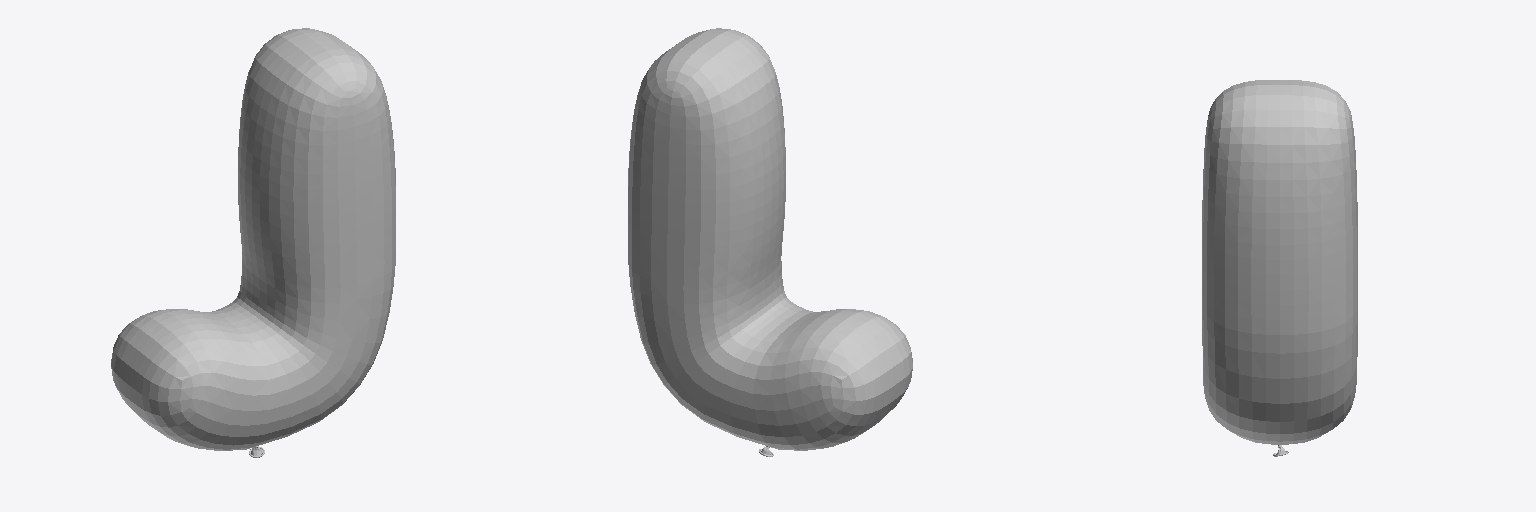
Rendered from balloonj.obj.
3 views of the same model, side by side, from view 1: azimuth 30°, elevation 25°; view 2: azimuth 150°, elevation 25°; view 3: azimuth 270°, elevation 25° (orthographic).
Visible parts, largest first — view 1: Balloon_Alphabet_Subdivision_J; view 2: Balloon_Alphabet_Subdivision_J; view 3: Balloon_Alphabet_Subdivision_J.
Boxes of the visible parts, box(x1,y1,x2,y2) form: Balloon_Alphabet_Subdivision_J: box(111, 28, 395, 457); Balloon_Alphabet_Subdivision_J: box(628, 28, 912, 456); Balloon_Alphabet_Subdivision_J: box(1202, 80, 1357, 456).
Size of the model in its own units: 33.54 by 50.65 by 17.94.